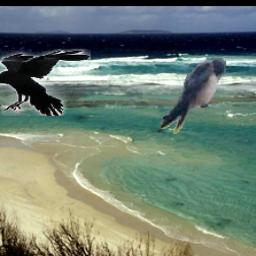Crow: (0, 49, 91, 116)
Swallow: (160, 59, 225, 135)
